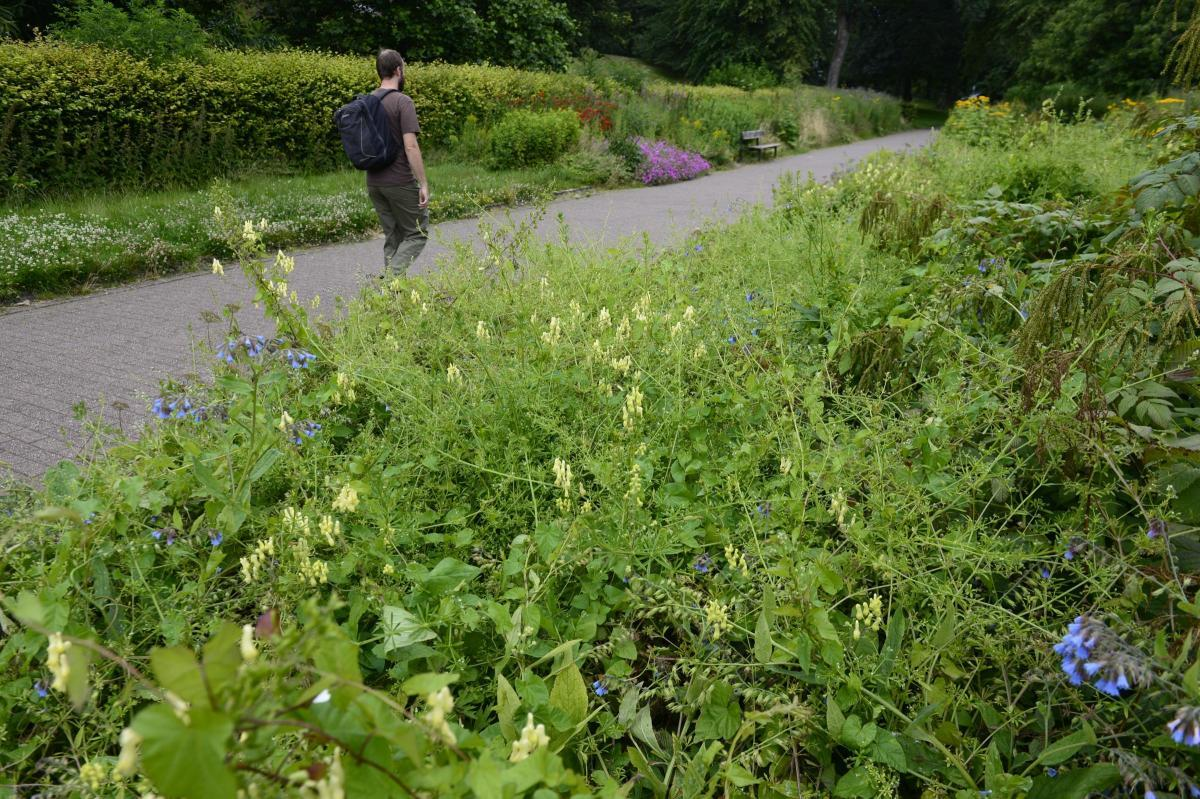overgrown grass: (0, 116, 1199, 798), (0, 170, 376, 303), (615, 82, 917, 163), (433, 165, 584, 217)
